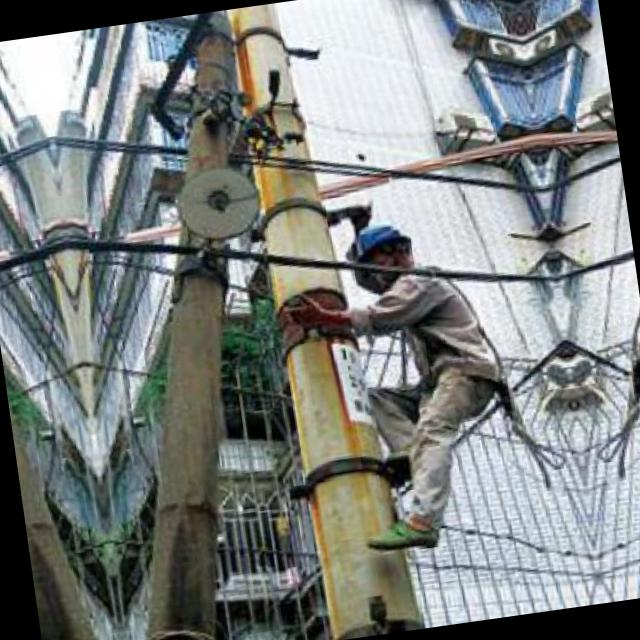helmet: (343, 203, 422, 286)
